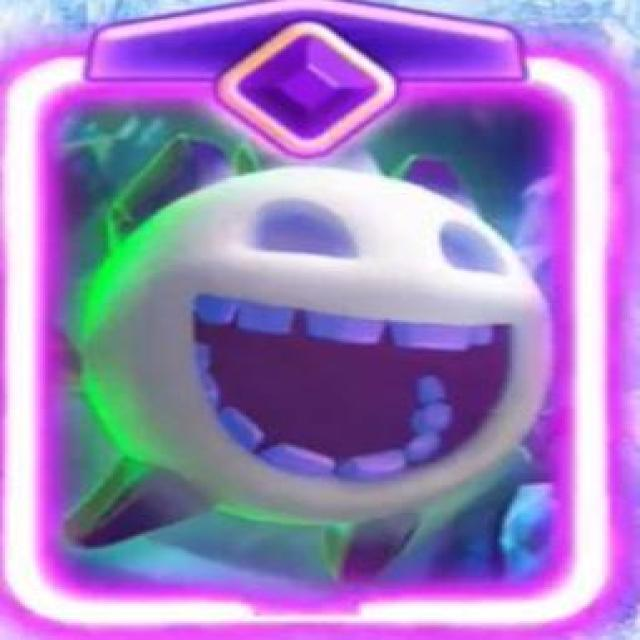Evolved_Ice_Spirit: (16, 60, 608, 620)
